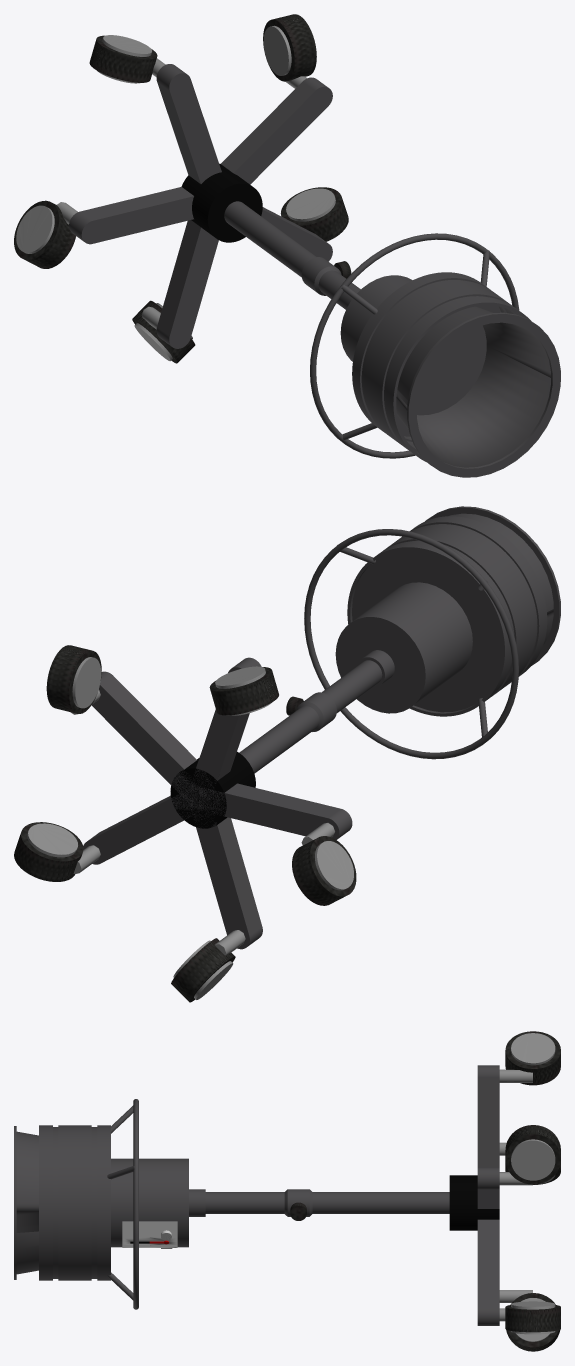
The model's file is Schalenständer heizbar.obj.
3 views of the same model, one above another, from view 1: azimuth 30°, elevation 25°; view 2: azimuth 150°, elevation 25°; view 3: azimuth 270°, elevation 25° (orthographic). The views are drawn at different scales.
Parts seen in each view (by area): view 1: 0_MT_EINRICHTUNG METAL_-_STAINLESS_STEEL SMOOTH_PART, 0_MT_EINRICHTUNG METAL_-_STAINLESS_STEEL FLAT_PART, 0_MT_EINRICHTUNG ASPHALT SMOOTH_PART, 0_MT_EINRICHTUNG FARBE__GRAU FLAT_PART, 0_MT_EINRICHTUNG ASPHALT FLAT_PART, 0_MT_EINRICHTUNG FARBE__GRAU SMOOTH_PART, 0_MT_EINRICHTUNG FARBE__SCHWARZ FLAT_PART, 0_MT_EINRICHTUNG FARBE__SCHWARZ SMOOTH_PART; view 2: 0_MT_EINRICHTUNG METAL_-_STAINLESS_STEEL SMOOTH_PART, 0_MT_EINRICHTUNG METAL_-_STAINLESS_STEEL FLAT_PART, 0_MT_EINRICHTUNG ASPHALT SMOOTH_PART, 0_MT_EINRICHTUNG FARBE__GRAU FLAT_PART, 0_MT_EINRICHTUNG FARBE__SCHWARZ FLAT_PART, 0_MT_EINRICHTUNG FARBE__GRAU SMOOTH_PART, 0_MT_EINRICHTUNG ASPHALT FLAT_PART, 0_MT_EINRICHTUNG FARBE__SCHWARZ SMOOTH_PART; view 3: 0_MT_EINRICHTUNG METAL_-_STAINLESS_STEEL SMOOTH_PART, 0_MT_EINRICHTUNG FARBE__GRAU FLAT_PART, 0_MT_EINRICHTUNG ASPHALT SMOOTH_PART, 0_MT_EINRICHTUNG ASPHALT FLAT_PART, 0_MT_EINRICHTUNG FARBE__SCHWARZ SMOOTH_PART, 0_MT_EINRICHTUNG FARBE__GRAU SMOOTH_PART, 0_MT_EINRICHTUNG FARBE__WEI_ SMOOTH_PART.
Boxes of the visible parts, x1,y1,x2,y2 form: 0_MT_EINRICHTUNG METAL_-_STAINLESS_STEEL SMOOTH_PART: [69, 64, 552, 468]; 0_MT_EINRICHTUNG METAL_-_STAINLESS_STEEL FLAT_PART: [81, 73, 560, 477]; 0_MT_EINRICHTUNG ASPHALT SMOOTH_PART: [24, 14, 351, 362]; 0_MT_EINRICHTUNG FARBE__GRAU FLAT_PART: [16, 26, 334, 361]; 0_MT_EINRICHTUNG ASPHALT FLAT_PART: [14, 19, 342, 363]; 0_MT_EINRICHTUNG FARBE__GRAU SMOOTH_PART: [24, 25, 335, 360]; 0_MT_EINRICHTUNG FARBE__SCHWARZ FLAT_PART: [207, 183, 262, 242]; 0_MT_EINRICHTUNG FARBE__SCHWARZ SMOOTH_PART: [181, 163, 251, 236]; 0_MT_EINRICHTUNG METAL_-_STAINLESS_STEEL SMOOTH_PART: [87, 506, 560, 946]; 0_MT_EINRICHTUNG METAL_-_STAINLESS_STEEL FLAT_PART: [83, 507, 559, 949]; 0_MT_EINRICHTUNG ASPHALT SMOOTH_PART: [14, 645, 345, 1001]; 0_MT_EINRICHTUNG FARBE__GRAU FLAT_PART: [28, 657, 353, 999]; 0_MT_EINRICHTUNG FARBE__SCHWARZ FLAT_PART: [170, 768, 226, 828]; 0_MT_EINRICHTUNG FARBE__GRAU SMOOTH_PART: [27, 657, 345, 999]; 0_MT_EINRICHTUNG ASPHALT FLAT_PART: [21, 650, 356, 1002]; 0_MT_EINRICHTUNG FARBE__SCHWARZ SMOOTH_PART: [185, 751, 255, 822]; 0_MT_EINRICHTUNG METAL_-_STAINLESS_STEEL SMOOTH_PART: [14, 1065, 499, 1325]; 0_MT_EINRICHTUNG FARBE__GRAU FLAT_PART: [511, 1033, 555, 1341]; 0_MT_EINRICHTUNG ASPHALT SMOOTH_PART: [290, 1050, 560, 1351]; 0_MT_EINRICHTUNG ASPHALT FLAT_PART: [290, 1031, 560, 1347]; 0_MT_EINRICHTUNG FARBE__SCHWARZ SMOOTH_PART: [449, 1175, 499, 1230]; 0_MT_EINRICHTUNG FARBE__GRAU SMOOTH_PART: [499, 1049, 555, 1341]; 0_MT_EINRICHTUNG FARBE__WEI_ SMOOTH_PART: [122, 1222, 177, 1247].
Bounding box in the file's own units: 58.85 × 57.89 × 98.54.
